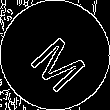M_NE: (21, 21, 89, 89)
